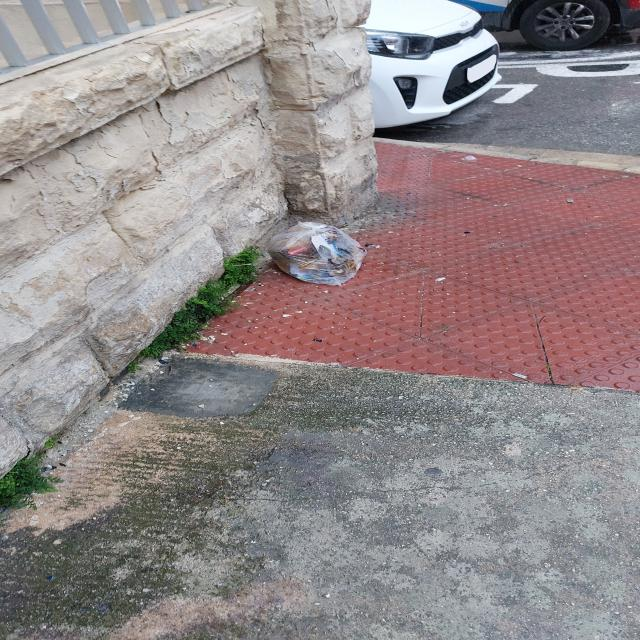Organic Waste -White Bag-: (267, 223, 368, 288)
